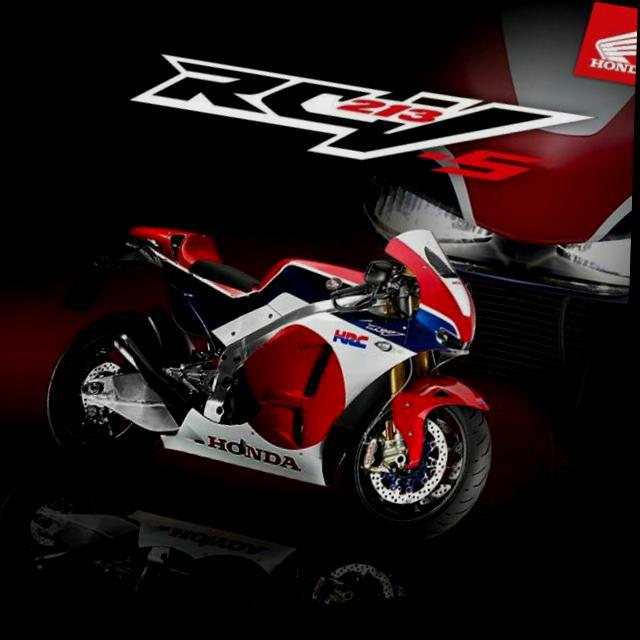HRC RCV 213: (21, 142, 556, 596)
